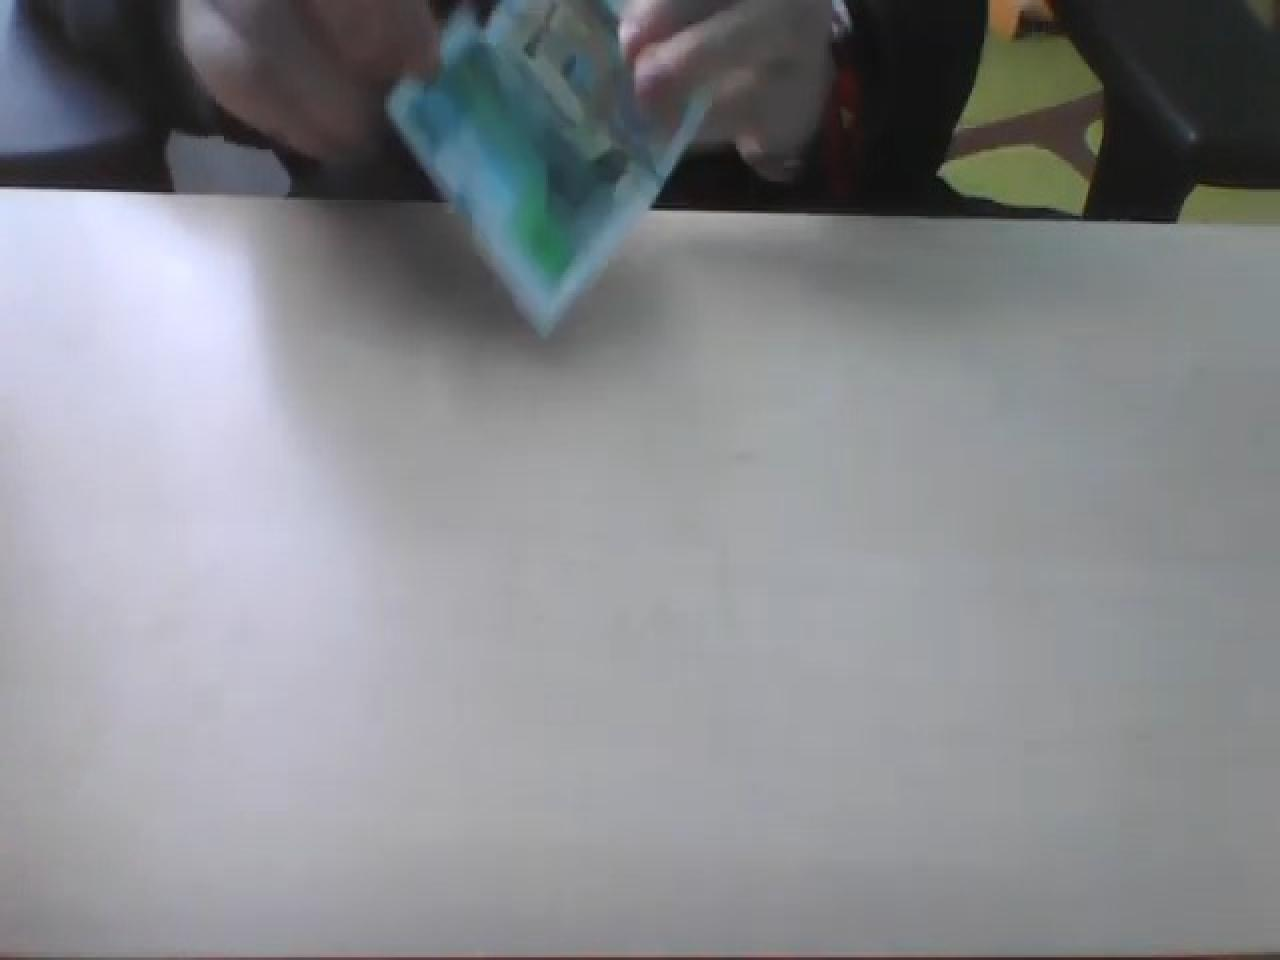100leva: (382, 0, 712, 339)
